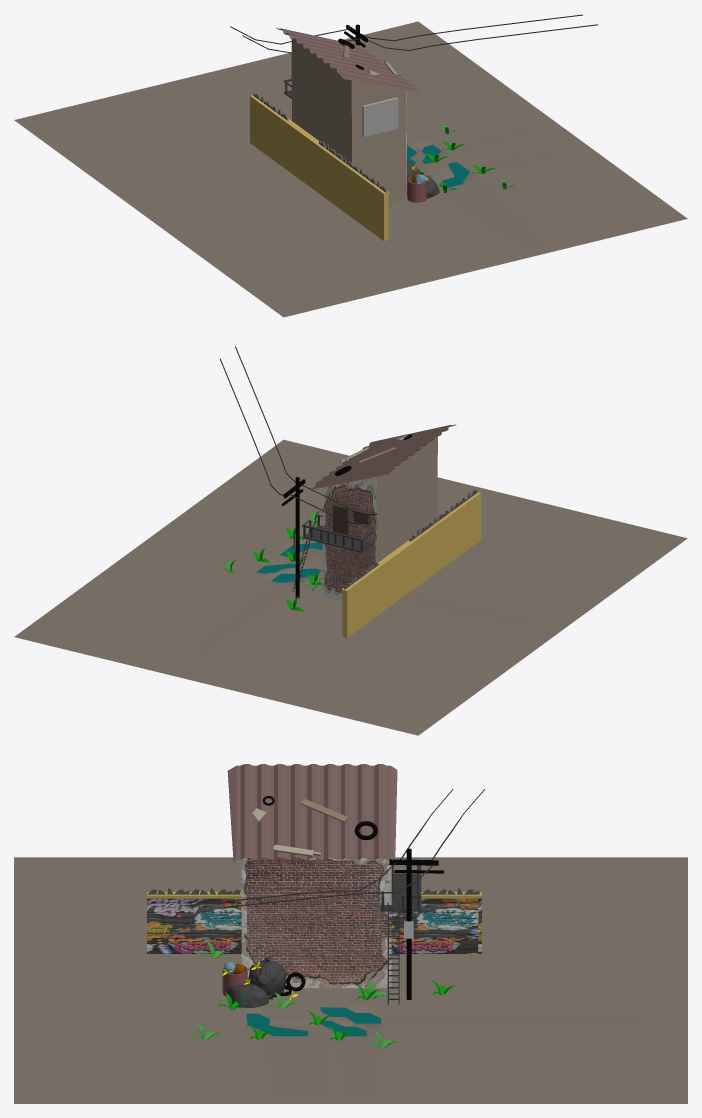
Rendered from Zhopdi.fbx.
The picture shows the model from 3 angles, top to bottom: view 1: azimuth 30°, elevation 25°; view 2: azimuth 150°, elevation 25°; view 3: azimuth 270°, elevation 25°; orthographic projection. The views are drawn at different scales.
Visible parts, largest first — view 1: pPlane6, polySurface13, pCube30, polySurface14, pCube2, polySurface61, pPlane24, pCube41; view 2: pPlane6, polySurface13, pCube30, polySurface14, polySurface65, pPlane24, polySurface20; view 3: pPlane6, polySurface13, polySurface14, pCube30, polySurface76, pPlane24, polySurface65, polySurface61, polySurface63, polySurface81, pCube41.
Part boxes in pixels (left/top/right/bottom): pPlane6: left=14, top=21, right=687, bottom=317; polySurface13: left=291, top=39, right=406, bottom=202; pCube30: left=250, top=95, right=389, bottom=240; polySurface14: left=276, top=28, right=420, bottom=92; pCube2: left=362, top=97, right=398, bottom=136; polySurface61: left=362, top=14, right=598, bottom=50; pPlane24: left=407, top=145, right=469, bottom=187; pCube41: left=253, top=93, right=387, bottom=192; pPlane6: left=14, top=439, right=687, bottom=735; polySurface13: left=322, top=436, right=437, bottom=601; pCube30: left=341, top=492, right=481, bottom=637; polySurface14: left=312, top=424, right=456, bottom=489; polySurface65: left=302, top=514, right=373, bottom=552; pPlane24: left=257, top=542, right=322, bottom=582; polySurface20: left=333, top=504, right=369, bottom=535; pPlane6: left=14, top=857, right=687, bottom=1103; polySurface13: left=241, top=858, right=391, bottom=988; polySurface14: left=227, top=764, right=397, bottom=861; pCube30: left=147, top=892, right=481, bottom=953; polySurface76: left=226, top=956, right=286, bottom=1007; pPlane24: left=246, top=1007, right=381, bottom=1036; polySurface65: left=380, top=859, right=421, bottom=911; polySurface61: left=186, top=863, right=433, bottom=907; polySurface63: left=406, top=848, right=411, bottom=999; polySurface81: left=387, top=902, right=399, bottom=1004; pCube41: left=147, top=887, right=479, bottom=894.
Bounding box in the file's own units: 21.04 × 8.19 × 24.3.
